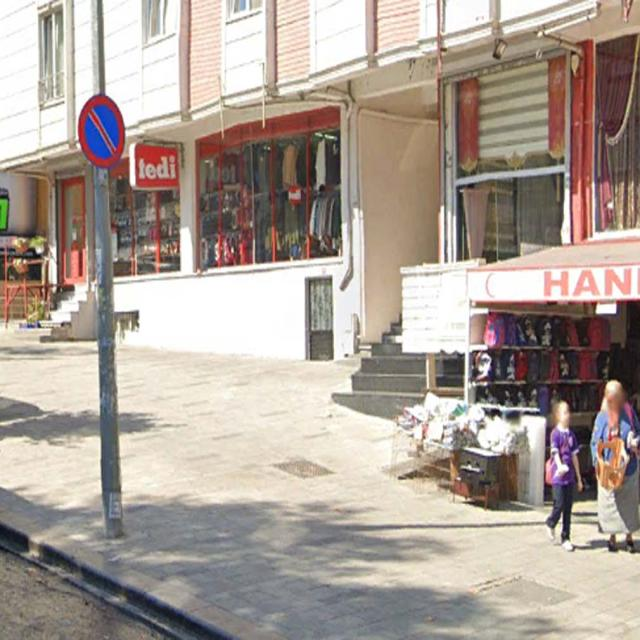parkyasak: (80, 93, 125, 169)
